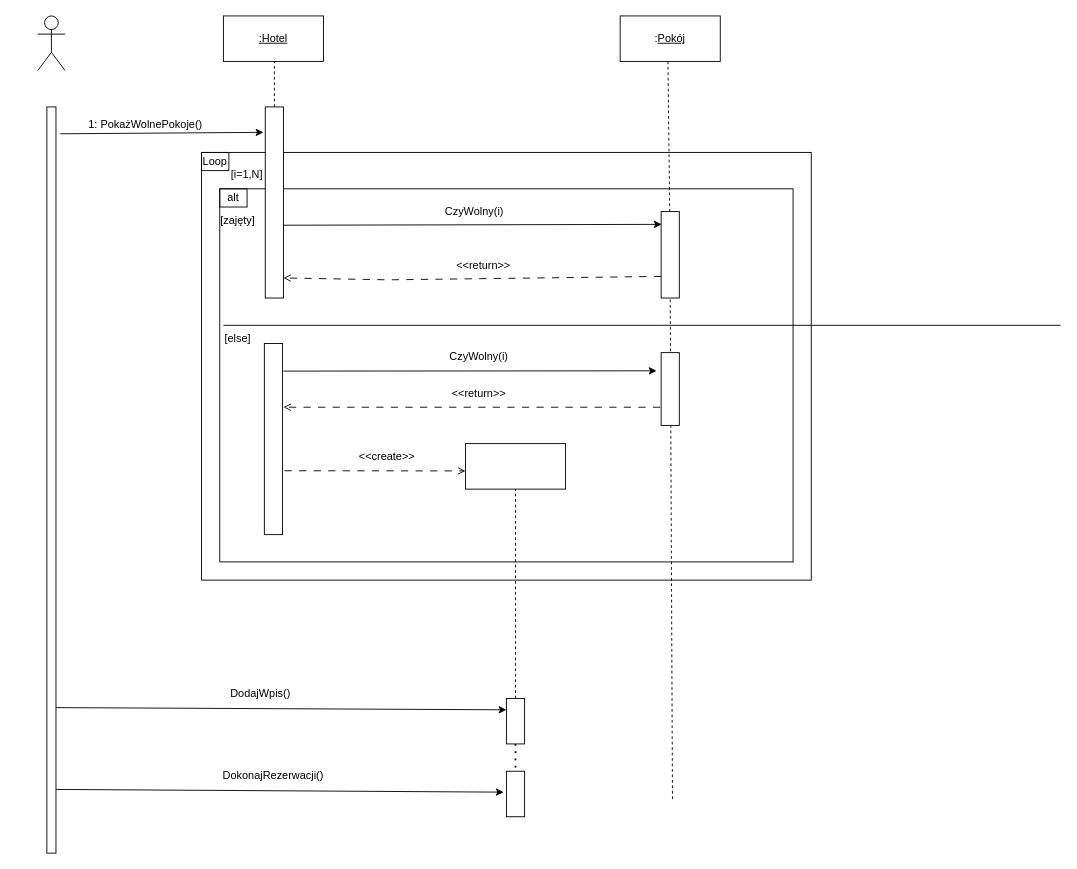
Some shapes in this 1077 by 869 pixel diagram are drawn without their labels. Each missing label, with the centre of its shape:
:OknoWynikowe: point (515, 466)
<<user> :Recepcjonista: point (51, 43)
